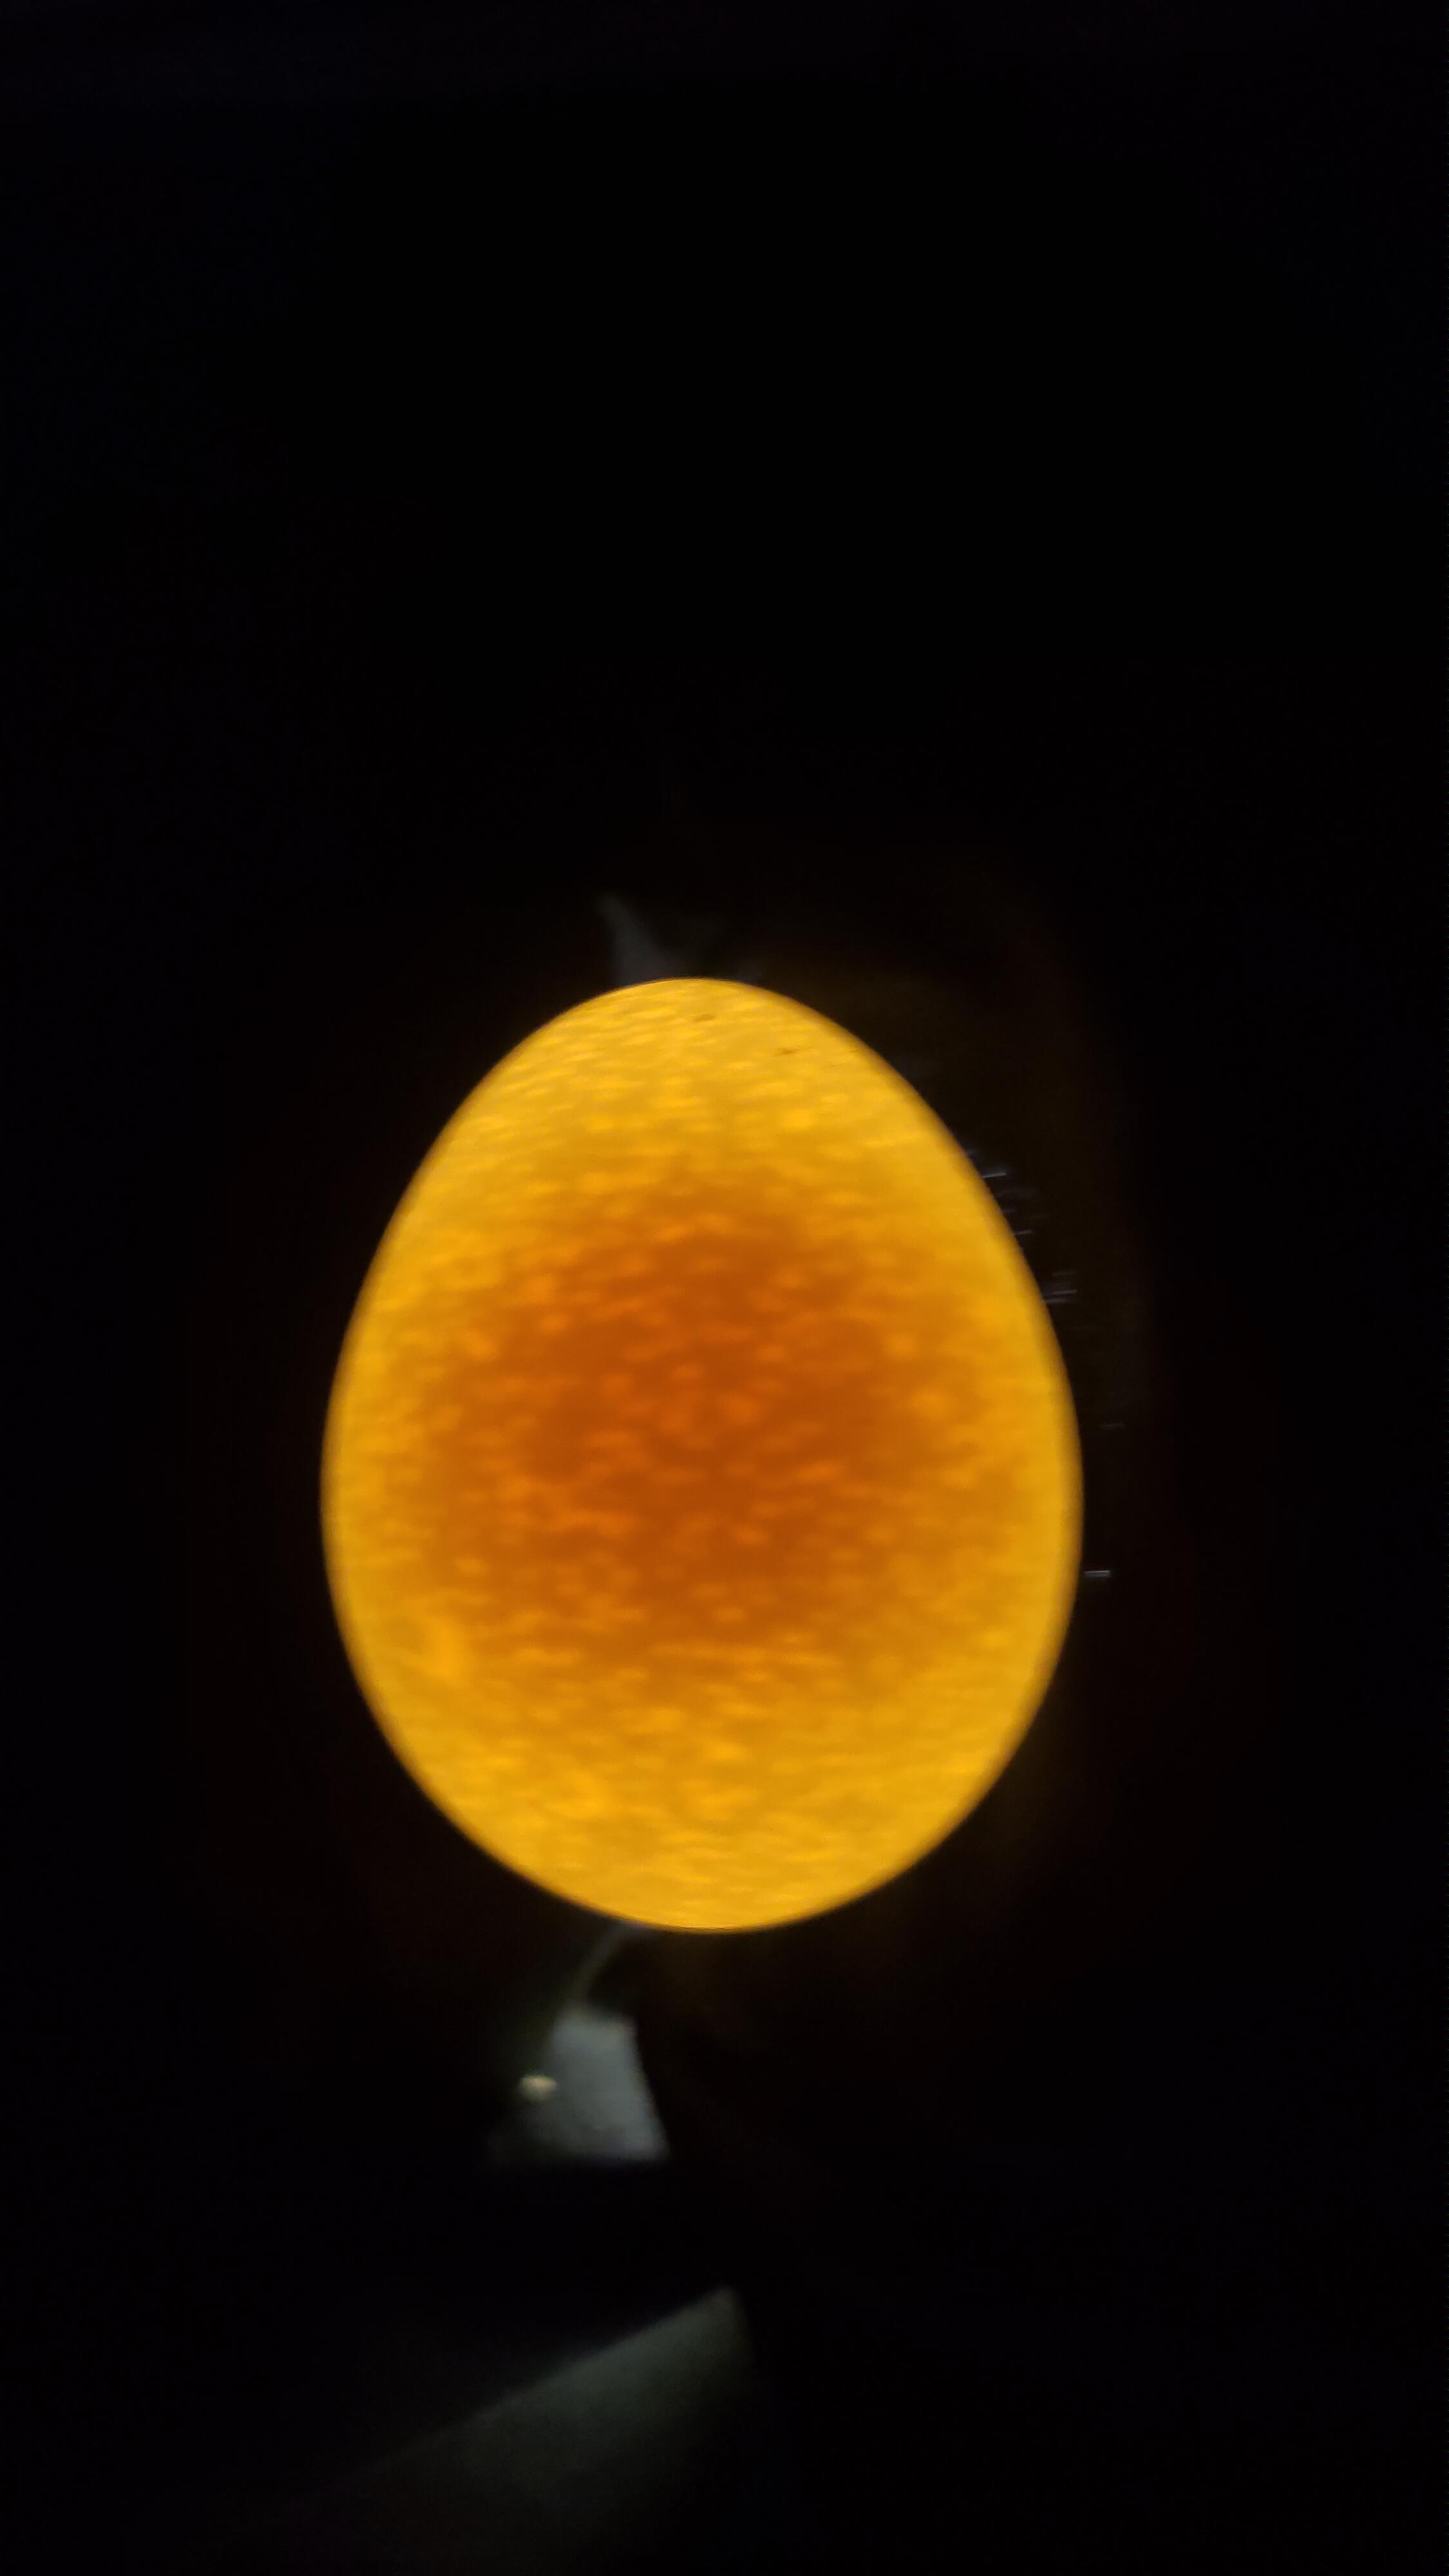A - Good: (290, 934, 1127, 1984)
